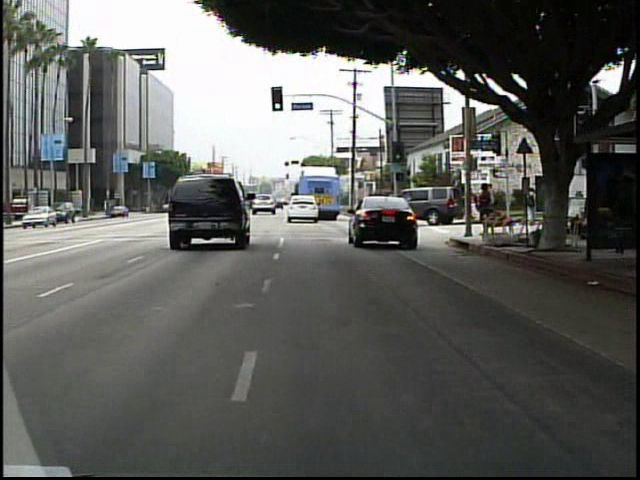person: (519, 181, 540, 236)
